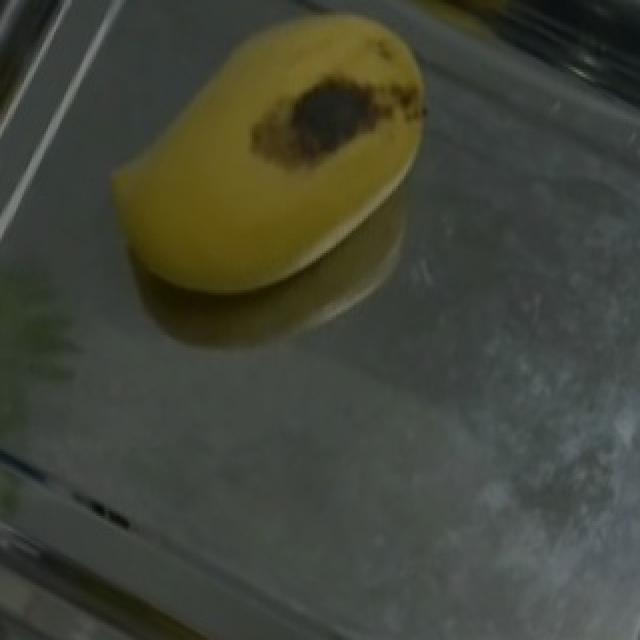fruit: (66, 0, 460, 352)
